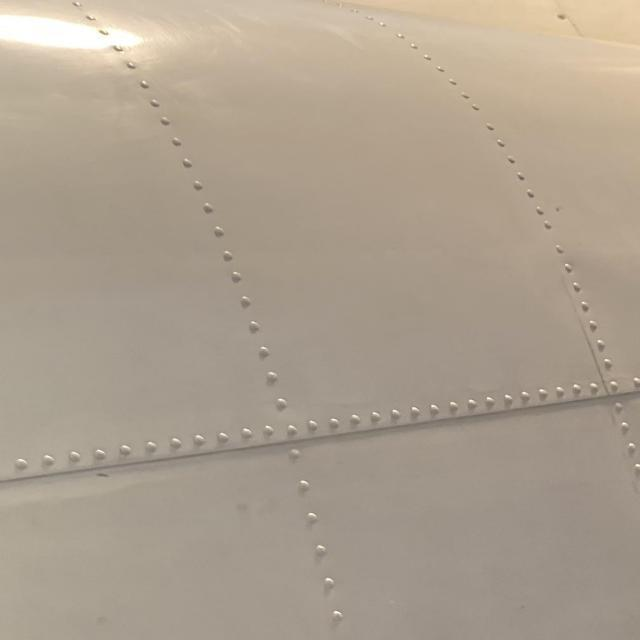Paint-off: (95, 471, 112, 479)
